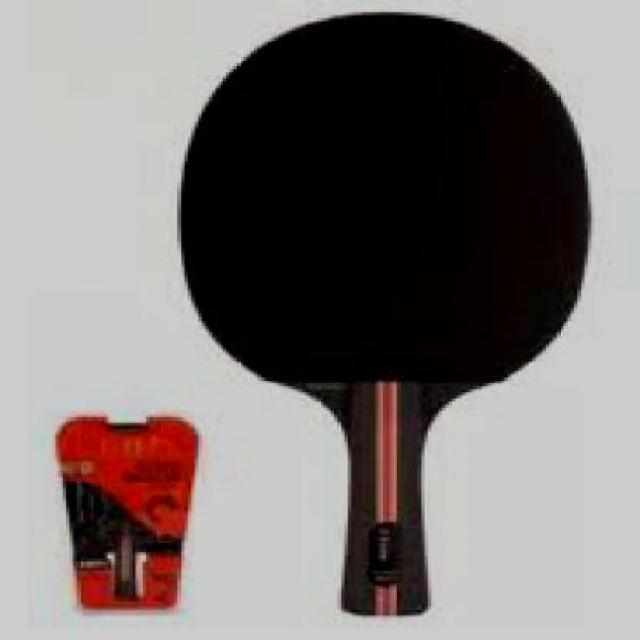table_tennis_racket: (180, 14, 591, 620)
